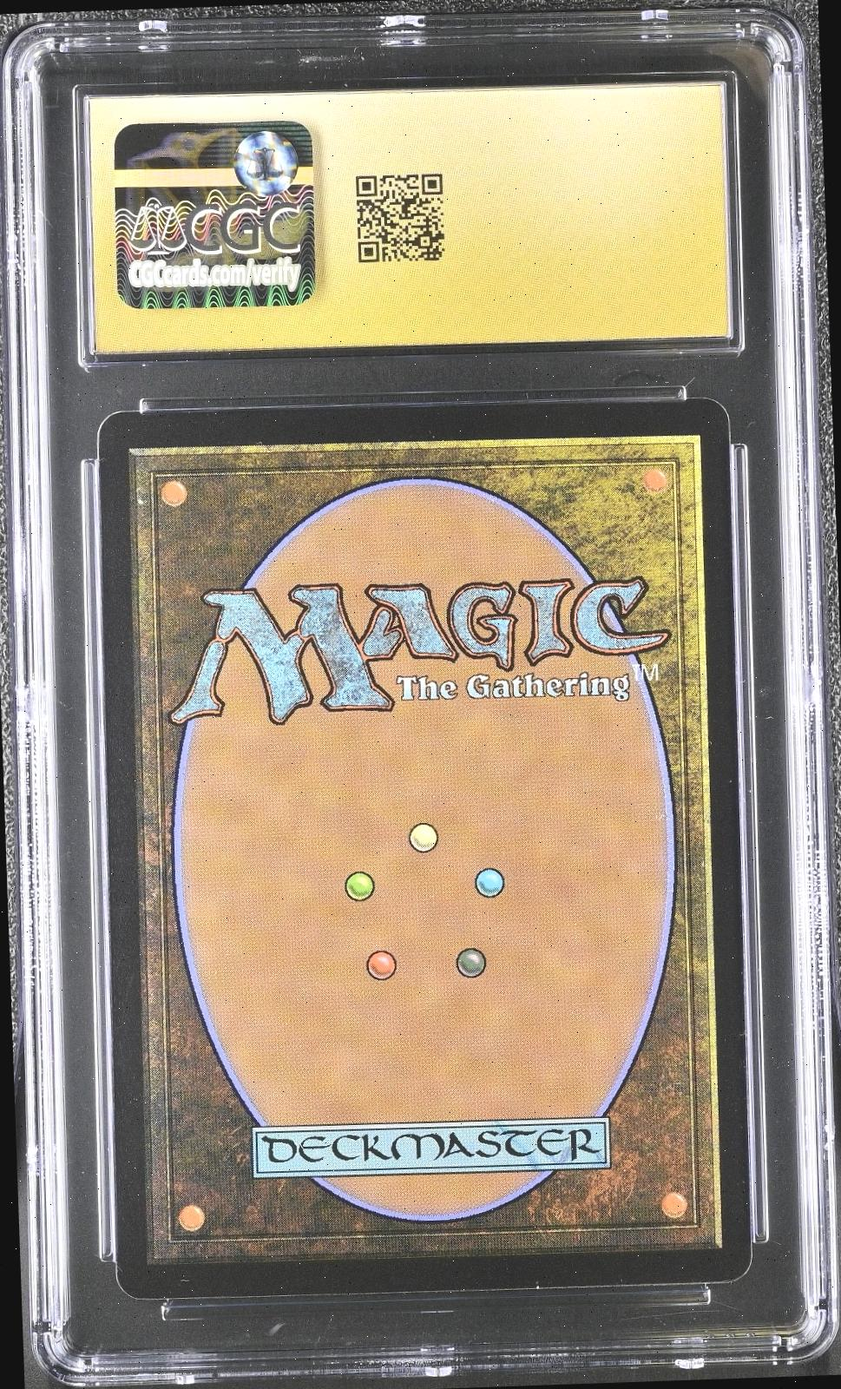card-2UtV: (95, 396, 752, 1301)
